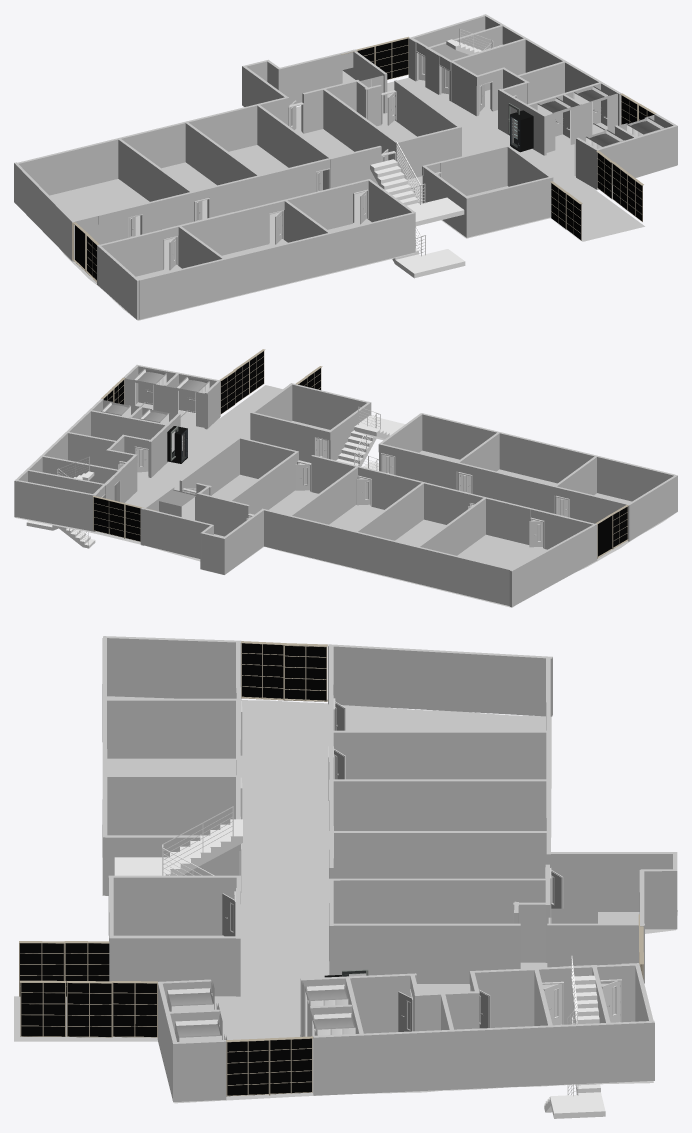
Rendered from torre-innovacion-pisos-6-10.glb.
The picture shows the model from 3 angles, top to bottom: view 1: azimuth 30°, elevation 25°; view 2: azimuth 150°, elevation 25°; view 3: azimuth 270°, elevation 25°; orthographic projection. The views are drawn at different scales.
Parts seen in each view (by area): view 1: Piso, Cubo.011, Cubo.001, Cubo.012, Cubo.003, Stair1.001, Cubo, Cubo.028, Cubo.015, Cubo.008, Cubo.053, Cubo.059 (+46 smaller); view 2: Piso, Cubo.001, Cubo.011, Cubo, Cubo.017, Cubo.059, Cubo.012, Cubo.015, Cubo.008, Cubo.006, Cubo.014, Cubo.013 (+46 smaller); view 3: Piso, Cubo.016, Cubo, Cubo.014, Cubo.013, Cubo.053, Cubo.010, Cubo.015, Cubo.006, Cubo.052, Cubo.005, Cubo.007 (+33 smaller).
Part boxes in pixels (bbox=[...]): Piso: bbox=[15, 77, 676, 320]; Cubo.011: bbox=[139, 212, 415, 319]; Cubo.001: bbox=[15, 97, 289, 195]; Cubo.012: bbox=[467, 177, 553, 236]; Cubo.003: bbox=[180, 204, 269, 255]; Stair1.001: bbox=[370, 141, 464, 226]; Cubo: bbox=[14, 162, 74, 261]; Cubo.028: bbox=[598, 125, 675, 184]; Cubo.015: bbox=[323, 89, 398, 166]; Cubo.008: bbox=[440, 145, 509, 195]; Cubo.053: bbox=[257, 104, 331, 189]; Cubo.059: bbox=[278, 49, 356, 105]; Piso: bbox=[14, 402, 673, 607]; Cubo.001: bbox=[261, 508, 513, 605]; Cubo.011: bbox=[421, 413, 675, 501]; Cubo: bbox=[509, 523, 597, 607]; Cubo.017: bbox=[17, 480, 94, 531]; Cubo.059: bbox=[140, 507, 212, 558]; Cubo.012: bbox=[291, 383, 369, 429]; Cubo.015: bbox=[229, 451, 298, 517]; Cubo.008: bbox=[250, 412, 315, 462]; Cubo.006: bbox=[627, 475, 677, 541]; Cubo.014: bbox=[355, 483, 423, 540]; Cubo.013: bbox=[418, 498, 485, 555]; Piso: bbox=[66, 696, 677, 1103]; Cubo.016: bbox=[313, 1021, 654, 1095]; Cubo: bbox=[328, 644, 552, 716]; Cubo.014: bbox=[333, 779, 548, 830]; Cubo.013: bbox=[333, 730, 546, 779]; Cubo.053: bbox=[333, 831, 548, 878]; Cubo.010: bbox=[329, 923, 520, 983]; Cubo.015: bbox=[329, 878, 545, 923]; Cubo.006: bbox=[103, 636, 241, 699]; Cubo.052: bbox=[107, 698, 236, 758]; Cubo.005: bbox=[105, 775, 236, 835]; Cubo.007: bbox=[108, 875, 236, 935].
Size of the model in its own units: 95.87 by 20.54 by 65.94.
